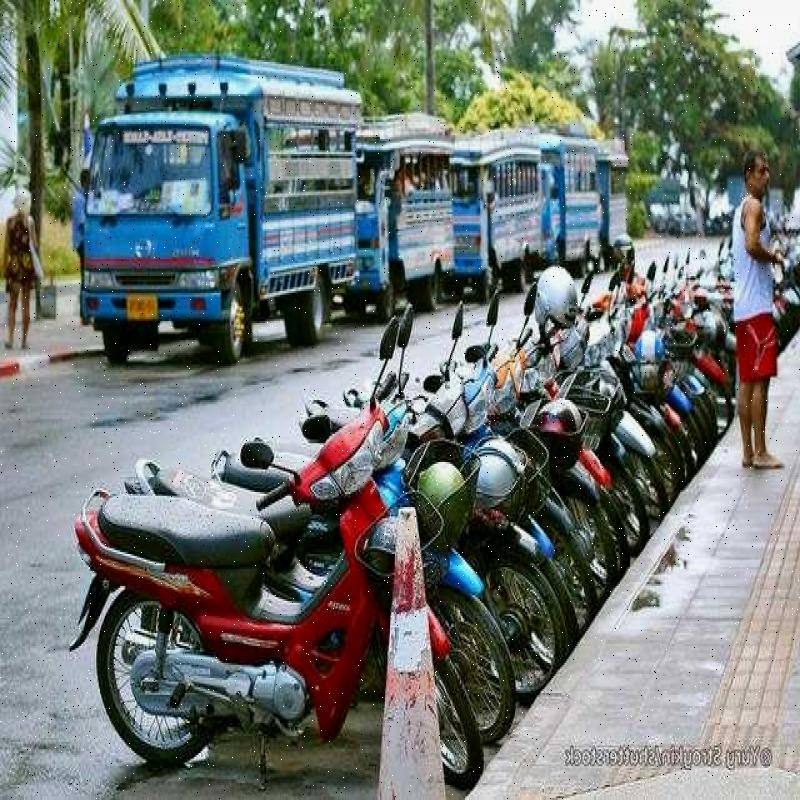bike: (295, 392, 377, 800), (369, 373, 428, 540), (428, 344, 486, 490), (464, 341, 507, 492)
